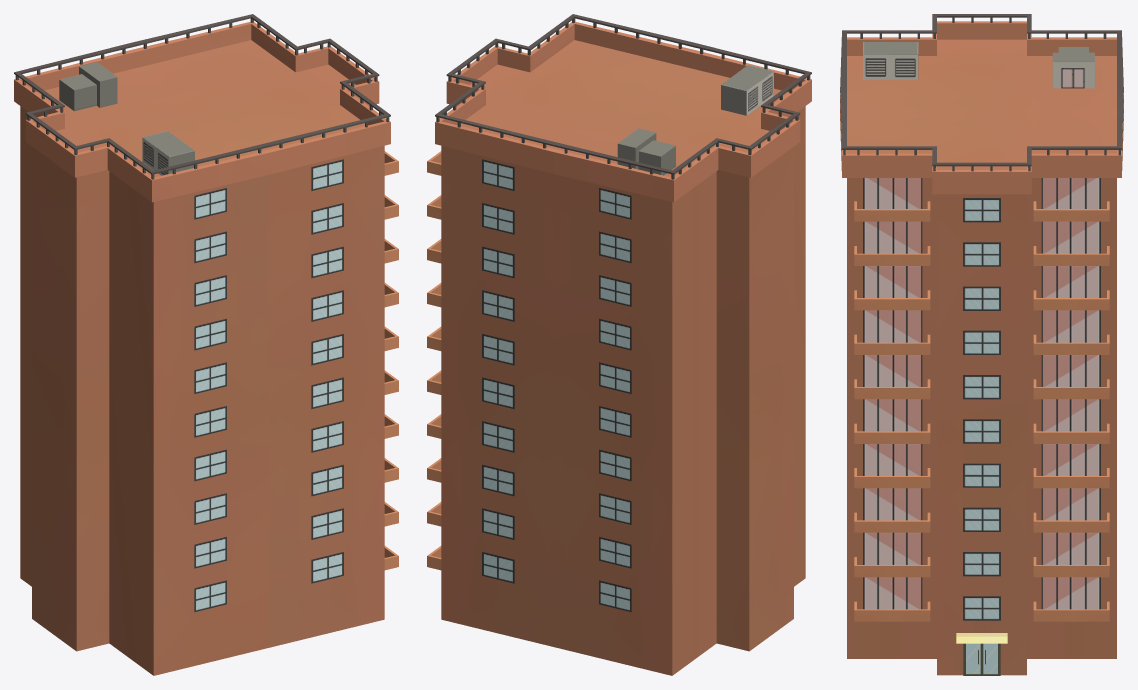
Rendered from house6.fbx.
3 renders of one model, left to right at view 1: azimuth 30°, elevation 25°; view 2: azimuth 150°, elevation 25°; view 3: azimuth 270°, elevation 25°, orthographic.
Visible parts, largest first — view 1: house6; view 2: house6; view 3: house6.
Part boxes in pixels (x1,y1,x2,y2): house6: (14, 14, 398, 675); house6: (427, 14, 811, 675); house6: (840, 14, 1123, 675).
Bounding box in the file's own units: 1701 × 2632 × 1313.
